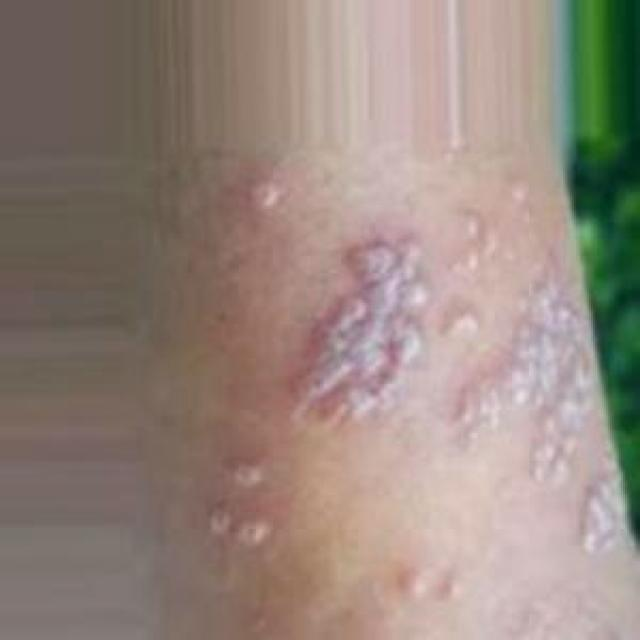Shingles: (452, 171, 597, 477), (272, 230, 434, 443), (566, 446, 634, 562), (205, 454, 273, 558), (242, 176, 282, 212)
